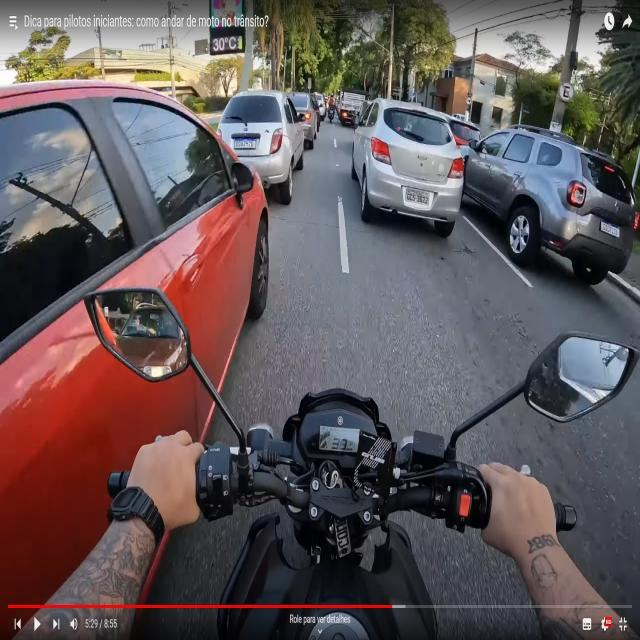Placa_mercosul_carro: (406, 188, 430, 206), (600, 220, 620, 239), (233, 138, 256, 150)
